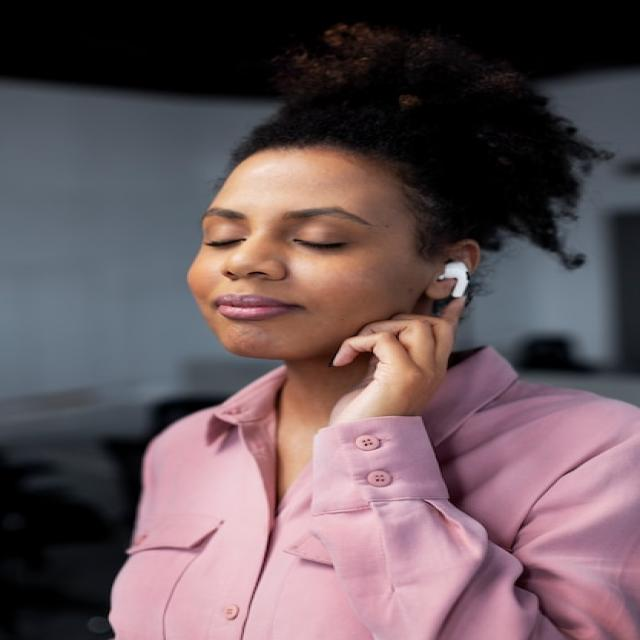airpods: (434, 258, 472, 299)
